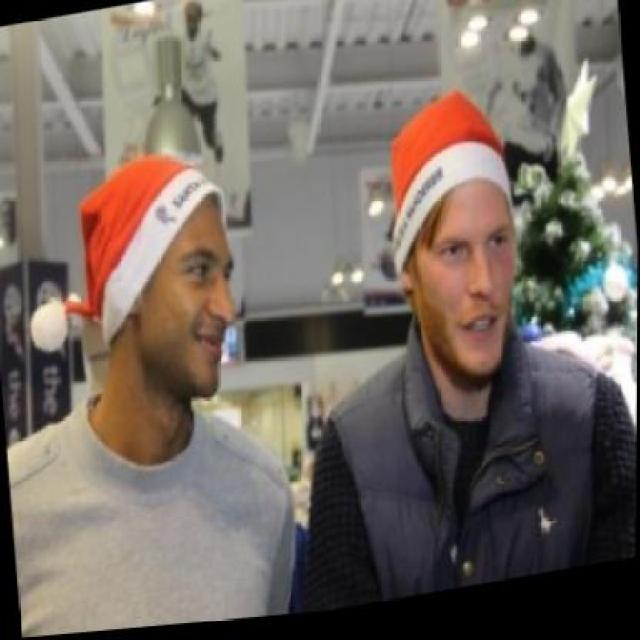hat: (13, 139, 241, 372), (378, 90, 520, 282)
